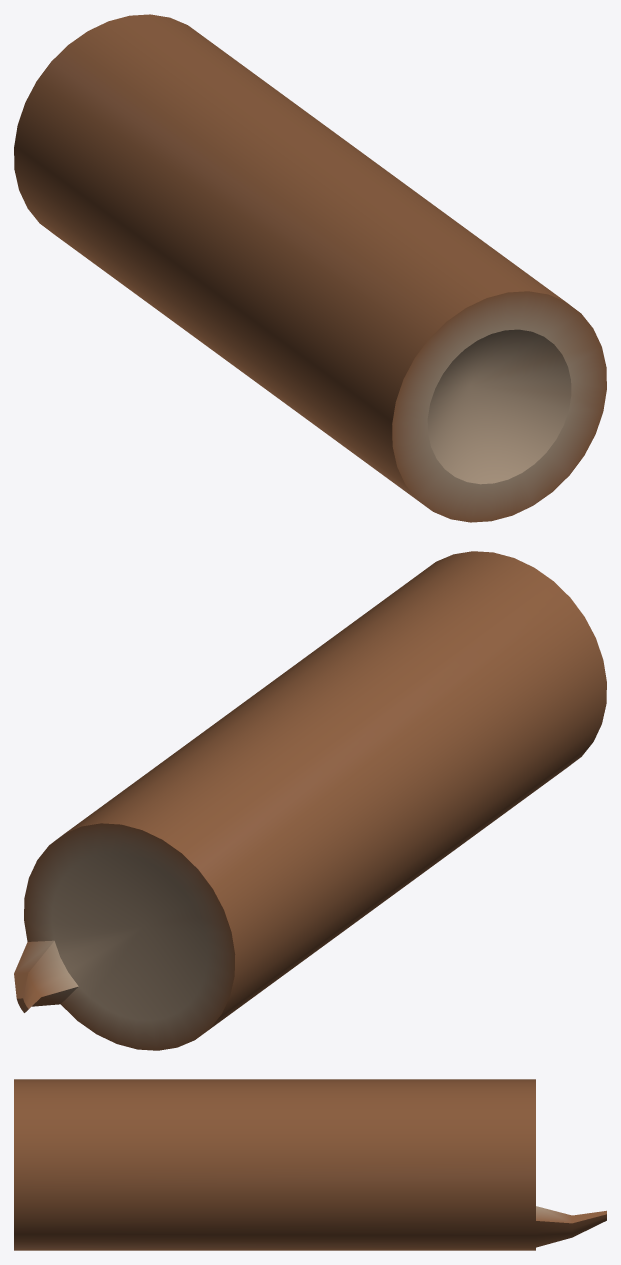
File: TroncoCamp.fbx
3 views of the same model, one above another, from view 1: azimuth 30°, elevation 25°; view 2: azimuth 150°, elevation 25°; view 3: azimuth 270°, elevation 25° (orthographic). The views are drawn at different scales.
Visible parts, largest first — view 1: Troncocamp; view 2: Troncocamp; view 3: Troncocamp.
Boxes of the visible parts, x1=… form: Troncocamp: x1=14, y1=14, x2=606, y2=522; Troncocamp: x1=14, y1=551, x2=606, y2=1050; Troncocamp: x1=14, y1=1079, x2=606, y2=1250.
Size of the model in its own units: 72.4 by 72.4 by 251.
